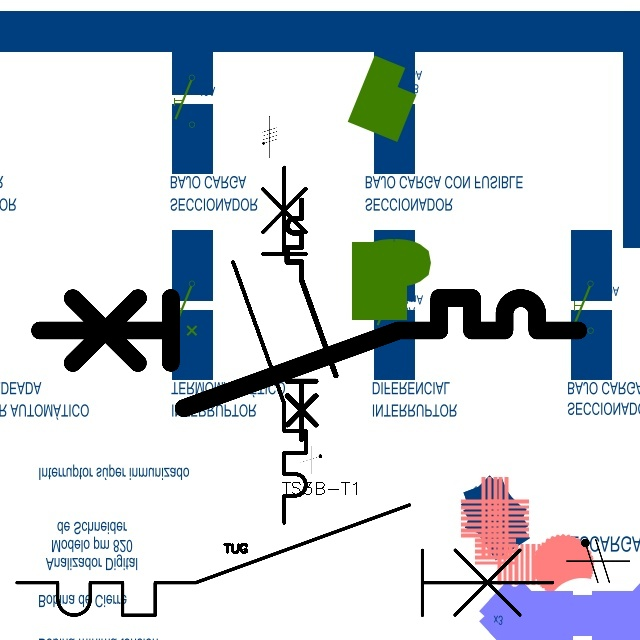interruptor_termomagnetico: (26, 284, 592, 422), (3, 491, 566, 629), (224, 158, 315, 531), (281, 194, 342, 446)
